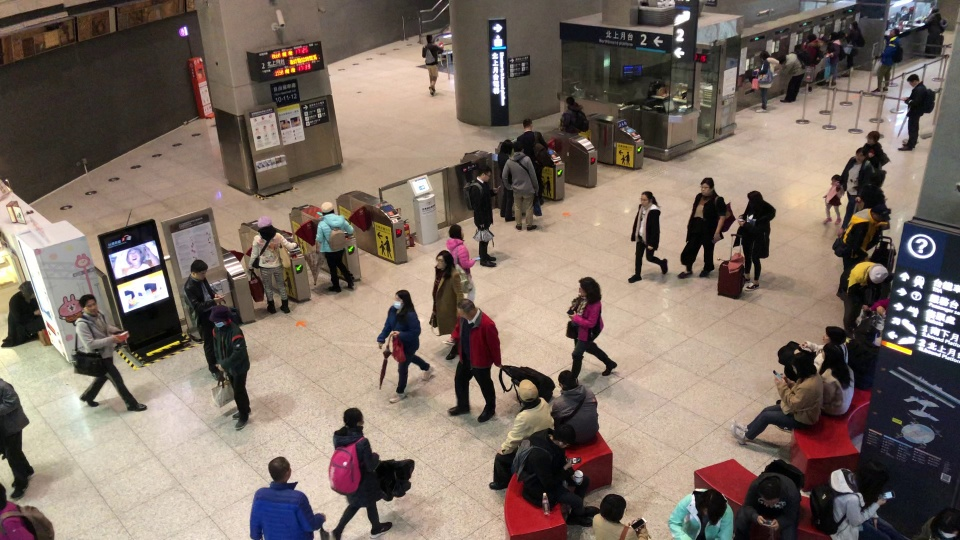person_head: (858, 460, 889, 495), (599, 493, 627, 523), (790, 353, 816, 378), (267, 455, 291, 482), (757, 478, 781, 504), (937, 511, 959, 539), (701, 490, 722, 519), (552, 424, 577, 447), (820, 342, 844, 365), (517, 382, 538, 407), (822, 325, 847, 345), (578, 276, 600, 298), (209, 305, 230, 328), (78, 293, 99, 315), (868, 264, 890, 284), (343, 407, 364, 427), (189, 259, 208, 280), (393, 290, 412, 311), (457, 299, 476, 320), (435, 249, 455, 268), (557, 370, 578, 388), (872, 204, 890, 223), (747, 189, 764, 208), (18, 280, 34, 298), (700, 177, 715, 196), (448, 223, 464, 240), (258, 216, 273, 233), (477, 164, 491, 182), (640, 190, 655, 206), (854, 147, 868, 164), (500, 138, 513, 156), (865, 130, 880, 145), (321, 201, 335, 215), (906, 72, 919, 87), (565, 95, 577, 107), (522, 117, 532, 131), (512, 141, 523, 153), (830, 173, 841, 184), (806, 32, 817, 42), (758, 50, 770, 59), (777, 53, 786, 65), (890, 28, 900, 38), (848, 20, 858, 29), (931, 5, 940, 15), (830, 31, 839, 40), (425, 34, 433, 42)
person_vbox: (511, 423, 600, 528), (73, 294, 148, 411), (729, 353, 823, 446), (326, 407, 392, 539), (809, 459, 907, 540), (772, 342, 855, 434), (488, 380, 555, 490), (443, 299, 502, 423), (376, 289, 435, 404), (248, 455, 326, 540), (734, 459, 805, 539), (181, 259, 227, 382), (208, 304, 252, 430), (565, 276, 617, 381), (835, 204, 891, 299), (675, 177, 727, 278), (247, 216, 297, 313), (732, 190, 777, 291), (0, 378, 34, 498), (462, 164, 501, 268), (627, 190, 668, 283), (314, 201, 355, 293), (842, 260, 889, 339), (550, 370, 600, 444), (431, 249, 464, 360), (666, 488, 734, 540), (836, 146, 876, 234), (501, 141, 539, 233), (896, 73, 935, 150), (515, 118, 549, 206), (0, 486, 55, 540), (791, 324, 849, 374), (0, 280, 43, 347), (592, 493, 648, 540), (445, 223, 477, 303), (869, 28, 903, 93), (776, 49, 811, 103), (753, 50, 780, 112), (801, 33, 827, 94), (497, 139, 515, 222), (841, 20, 866, 79), (917, 506, 959, 540), (421, 34, 443, 97), (824, 31, 846, 90), (559, 93, 589, 135), (821, 173, 844, 226), (863, 128, 890, 166), (923, 5, 947, 35)
